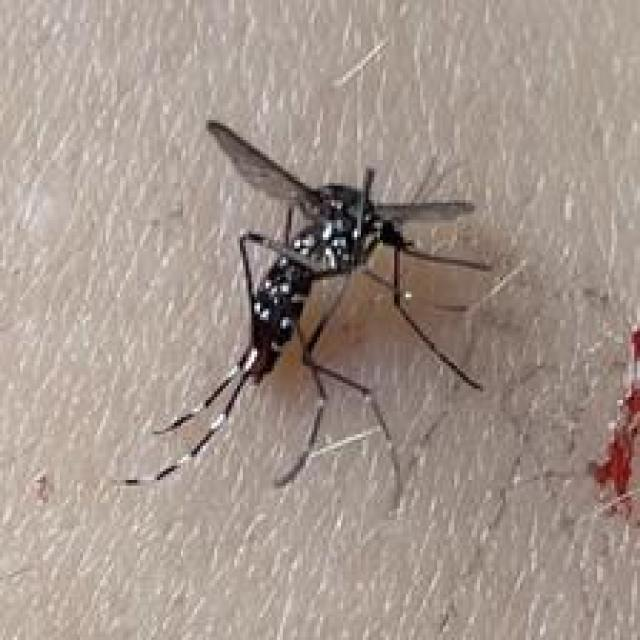Aedes albopictus: (121, 116, 498, 510)
